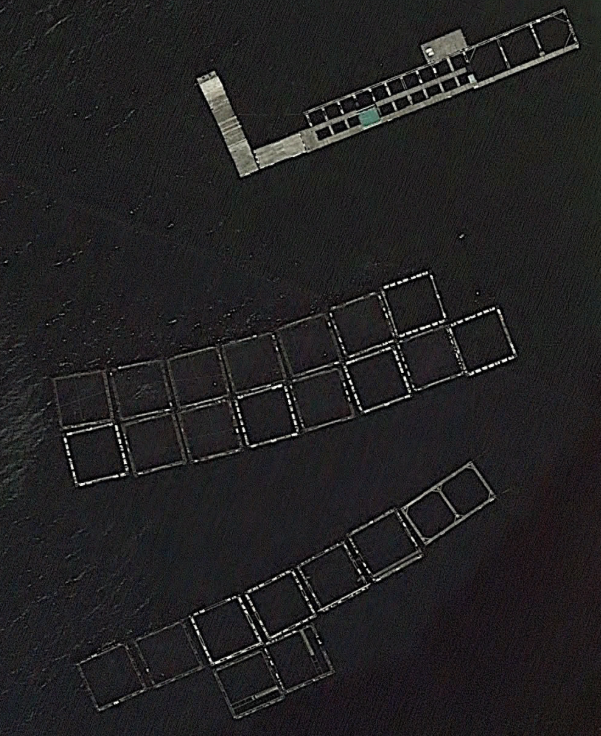platform: (192, 66, 258, 180), (247, 129, 322, 169), (413, 19, 470, 63)
square: (60, 633, 151, 713), (439, 303, 518, 394), (280, 354, 364, 437), (345, 500, 425, 586), (240, 551, 319, 636), (296, 531, 372, 613), (54, 411, 138, 485), (207, 648, 294, 719), (250, 621, 338, 691), (368, 261, 447, 336), (173, 387, 243, 471), (89, 354, 175, 422), (387, 324, 462, 401), (203, 329, 290, 395), (141, 607, 207, 693), (232, 377, 301, 457), (115, 404, 191, 476), (38, 365, 123, 429), (325, 281, 393, 360), (154, 343, 235, 408), (193, 584, 262, 659), (268, 310, 342, 379), (338, 347, 413, 412)
